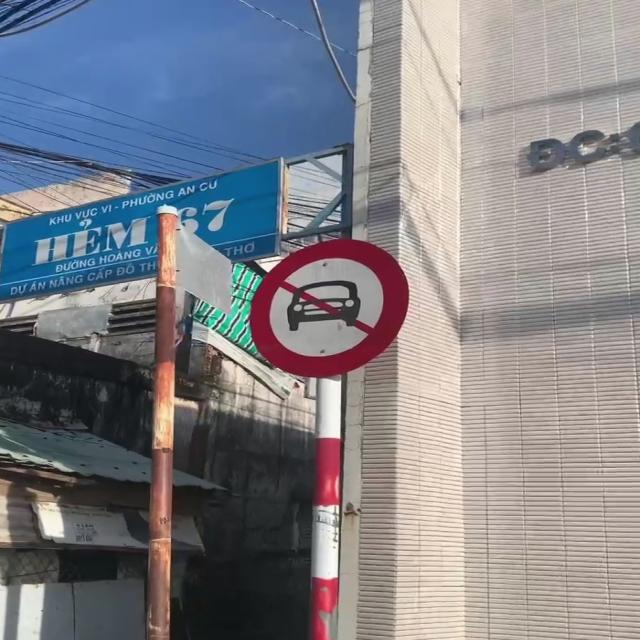Cam_O_To: (252, 238, 410, 373)
